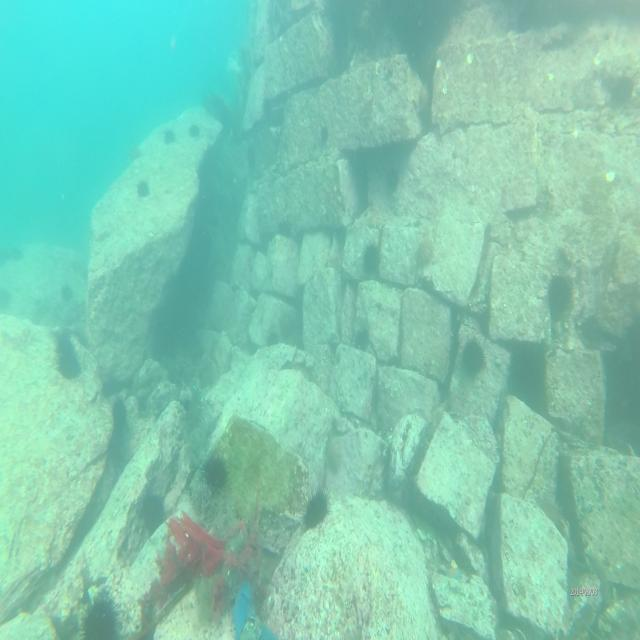echinus: (81, 591, 119, 640), (544, 270, 576, 325), (51, 331, 83, 382), (458, 334, 490, 380), (199, 449, 232, 493), (300, 488, 332, 533), (138, 490, 166, 533), (360, 235, 382, 279), (610, 72, 635, 108), (540, 492, 562, 530), (415, 234, 436, 269), (110, 399, 128, 433), (384, 164, 402, 197), (136, 176, 153, 202), (57, 284, 76, 306), (0, 281, 10, 317), (246, 146, 258, 175), (316, 121, 329, 147), (187, 121, 203, 142), (8, 242, 24, 263), (128, 144, 144, 163), (164, 126, 178, 145)
starfish: (441, 558, 462, 585)
